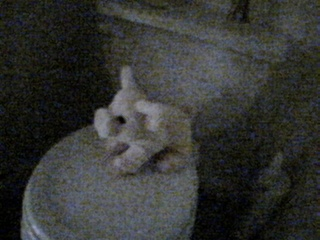piggy: (91, 64, 195, 178)
